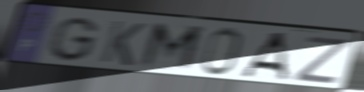0: (199, 26, 243, 78)
A: (238, 31, 291, 83)
G: (45, 16, 101, 63)
K: (97, 19, 148, 69)
M: (136, 21, 207, 75)
Z: (291, 35, 352, 86)
